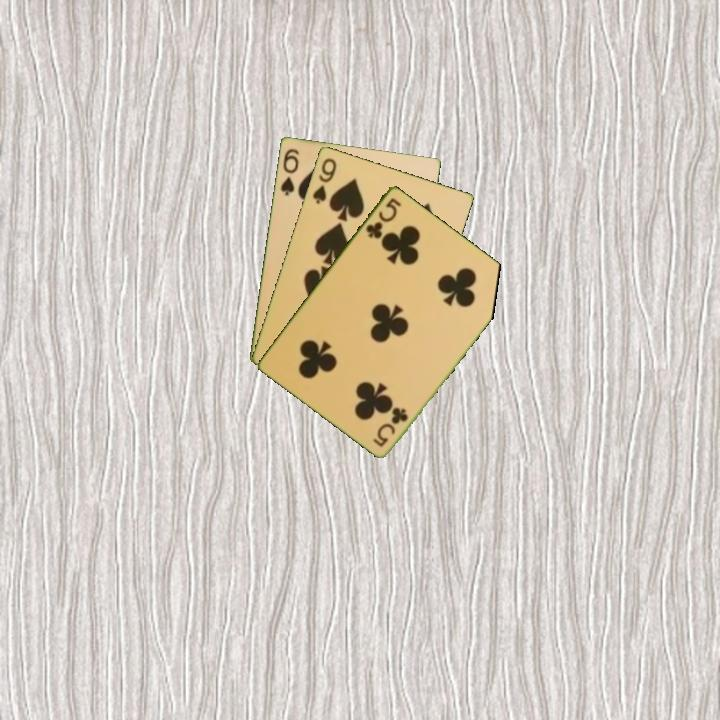5c: (362, 194, 404, 242), (369, 404, 411, 450)
6s: (277, 145, 302, 198)
9s: (309, 154, 339, 207)
